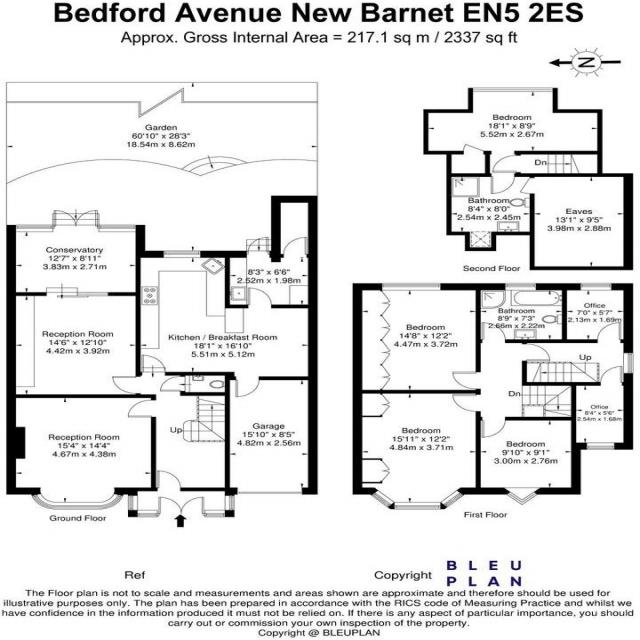DOOR: (480, 416, 507, 439), (246, 286, 273, 309), (234, 375, 261, 398), (450, 393, 481, 413), (480, 320, 506, 343), (156, 469, 182, 492), (489, 173, 516, 195), (110, 375, 141, 394), (127, 399, 156, 419), (140, 354, 166, 376), (451, 371, 481, 390), (596, 322, 622, 343), (492, 155, 521, 173), (599, 365, 623, 386), (518, 177, 535, 195)
ROOM: (135, 250, 318, 398), (6, 394, 156, 510), (352, 389, 481, 511), (6, 292, 141, 398), (352, 283, 481, 393), (423, 88, 602, 154), (475, 417, 581, 506), (562, 283, 633, 344)
WINDOW: (370, 489, 465, 510), (30, 492, 125, 510), (127, 495, 158, 518), (204, 495, 235, 518), (380, 282, 442, 291), (506, 491, 539, 506), (472, 87, 553, 93), (163, 250, 202, 259), (503, 282, 537, 291), (580, 283, 612, 291), (585, 442, 616, 450), (623, 352, 634, 374)
